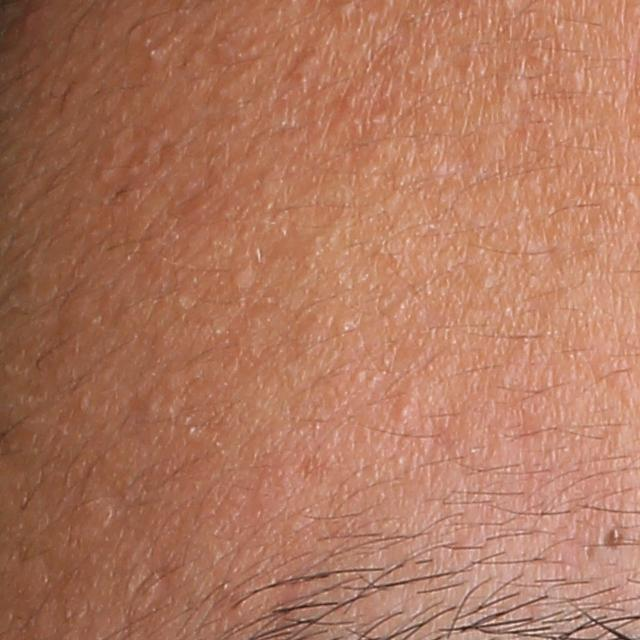comedo: (392, 402, 415, 421)
